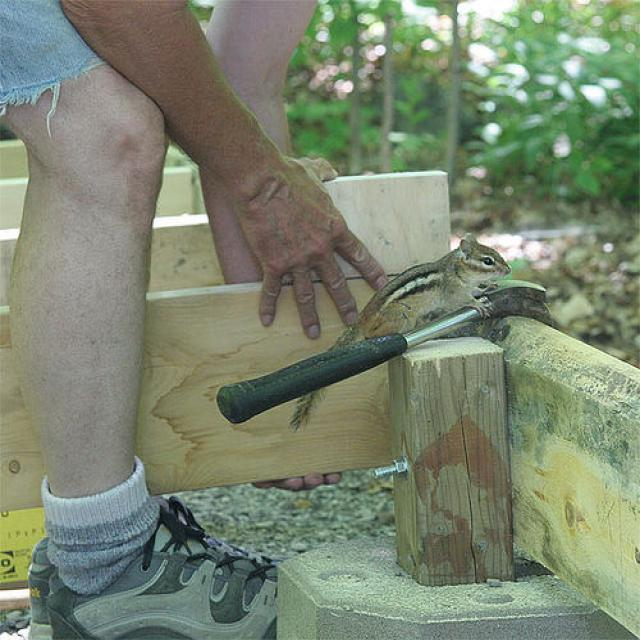hammer: (208, 276, 559, 433)
